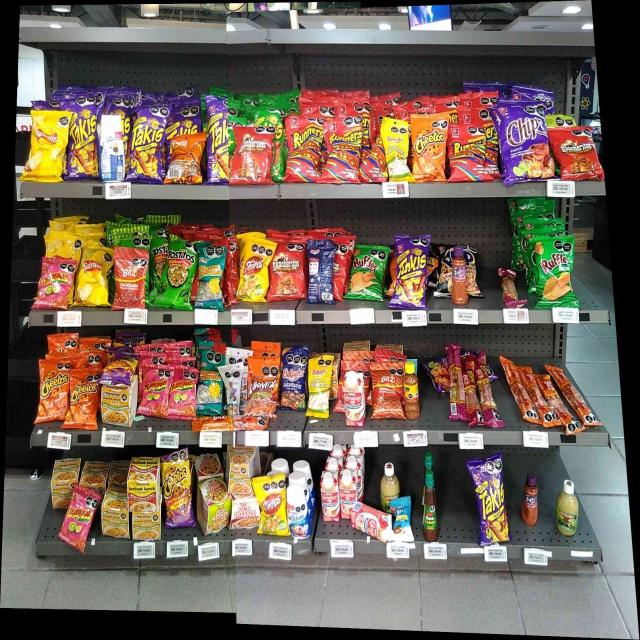bitzAlmendras: (394, 500, 412, 540)
bitzEnchilado90: (116, 249, 145, 307), (372, 364, 402, 416)
bitzEnchilado95: (507, 361, 587, 421), (199, 416, 268, 431)
bitzHabanero: (448, 344, 464, 420), (480, 356, 496, 426), (466, 357, 479, 425), (502, 269, 520, 306)
bokadosCacahuates: (282, 349, 306, 410)
botaneraChilito: (405, 362, 419, 418)
cheetosFlaminHot: (164, 456, 192, 526), (105, 353, 136, 380)
cheetosOriginal: (412, 115, 445, 182), (70, 370, 97, 427), (40, 360, 66, 418)
chipsFuego: (501, 101, 549, 179)
churrumais: (40, 257, 70, 309), (64, 492, 92, 544), (142, 362, 168, 417), (171, 366, 196, 419)
delPrimoSalsa: (556, 479, 578, 534), (381, 462, 400, 498)
fritosLimon: (257, 478, 286, 534), (242, 238, 267, 300)
leoMix: (248, 358, 276, 413)
maruchanPollo: (228, 447, 255, 494), (101, 386, 136, 422), (102, 488, 126, 537), (133, 513, 160, 541)
maruchanRes: (128, 456, 158, 512)
nestleCarnation: (352, 504, 390, 540), (344, 372, 364, 426), (320, 472, 338, 521), (340, 467, 357, 502)
nestleLechera: (100, 115, 124, 182), (288, 486, 310, 536)
nissinCamaron: (198, 484, 226, 528)
popKarameladas: (436, 242, 479, 268)
productoAtras: (308, 240, 333, 303), (169, 138, 200, 182)
rancheritos: (234, 127, 270, 184), (555, 129, 597, 177), (272, 243, 305, 299)
rufflesQueso: (535, 239, 573, 305), (354, 246, 384, 299)
runners: (325, 120, 360, 182), (288, 116, 320, 180), (450, 125, 485, 182)
sabritasOriginal: (31, 112, 64, 181), (80, 248, 110, 306)
salsaBufalo: (423, 470, 438, 540)
semillasCalabaza: (385, 120, 409, 180), (310, 360, 330, 418)
semillasGirasol: (198, 247, 222, 309), (200, 351, 220, 414)
tajinDulce: (522, 473, 538, 526), (452, 270, 467, 304)
takisFuego: (477, 460, 508, 543), (394, 234, 427, 309), (132, 104, 162, 182), (68, 98, 97, 176), (207, 99, 229, 184)
tostitos: (167, 238, 194, 310)
